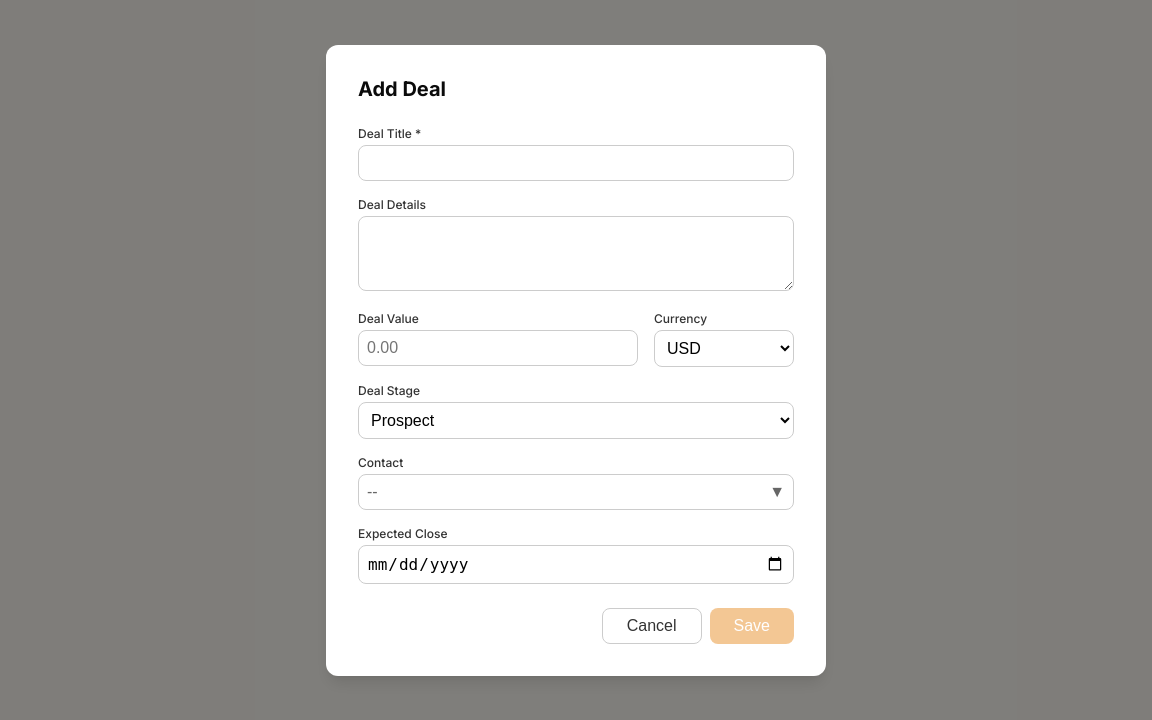
it: DealFormModal contact typeahead › filters contacts and selects a matching contact
Click the button named "Contact" at (372, 491), box [358,474,794,510]
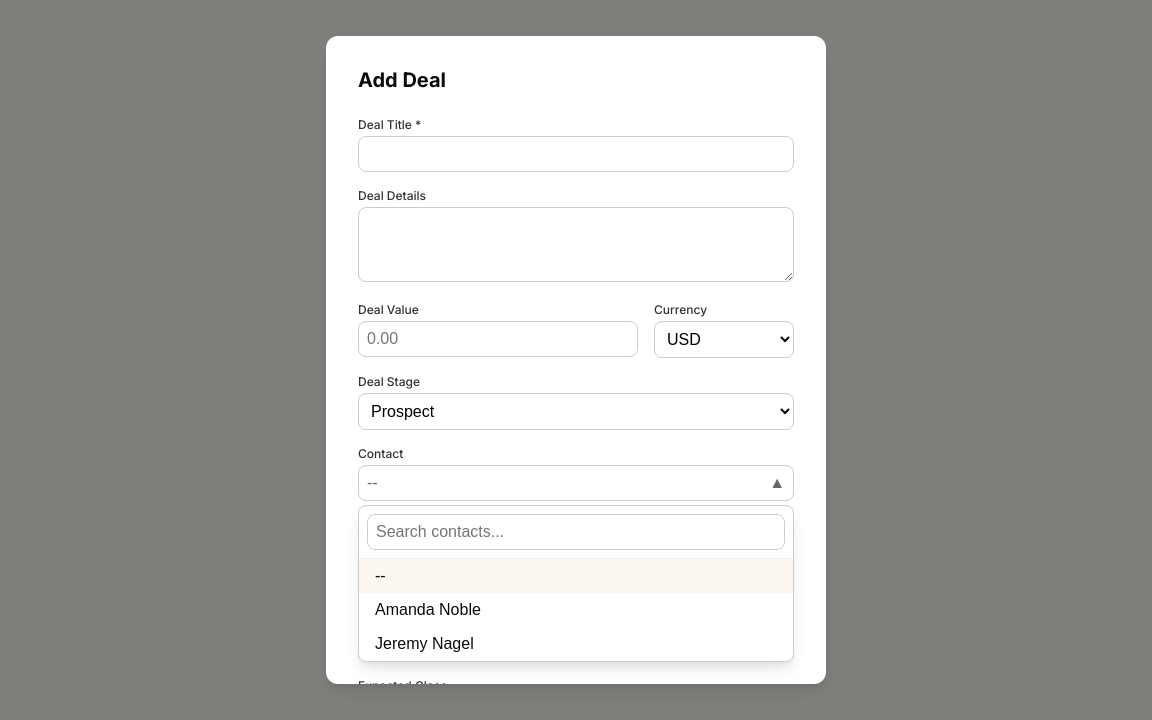
Type "amanda" into the field with placeholder "Search contacts..." at (576, 532), box [367,514,785,550]
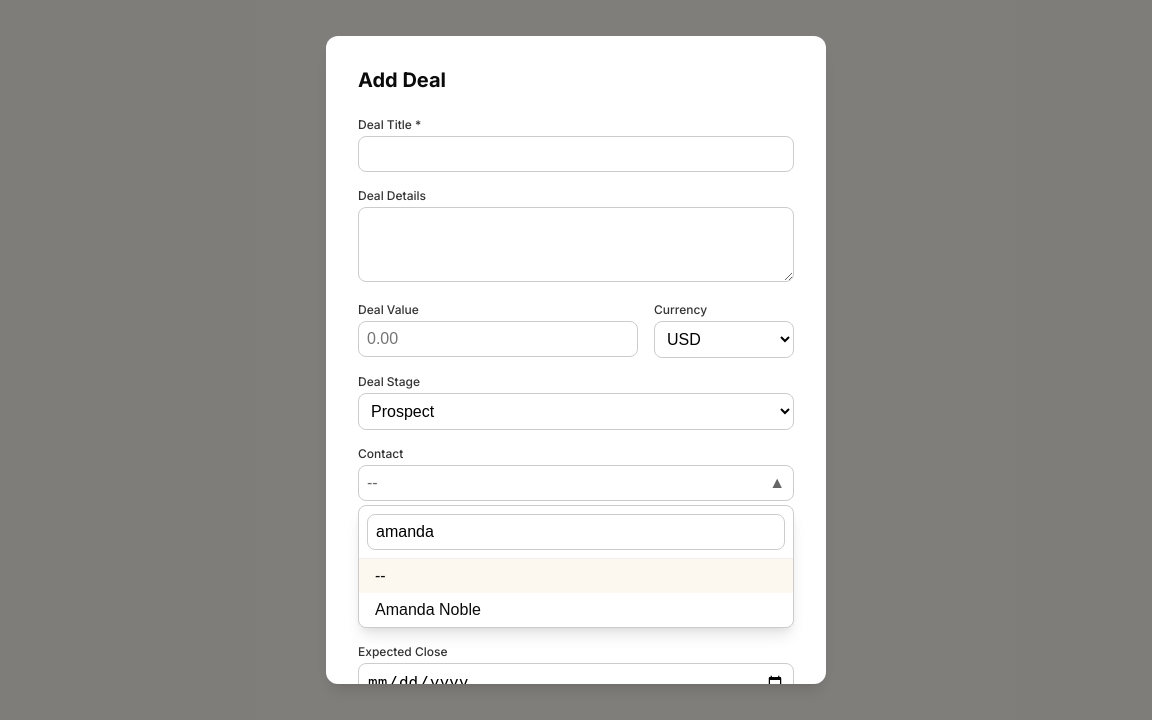
Expected: the option "Amanda Noble" is shown
Expected: the option "Jeremy Nagel" is gone
Click the option "Amanda Noble" at (428, 610), box [359,593,793,627]
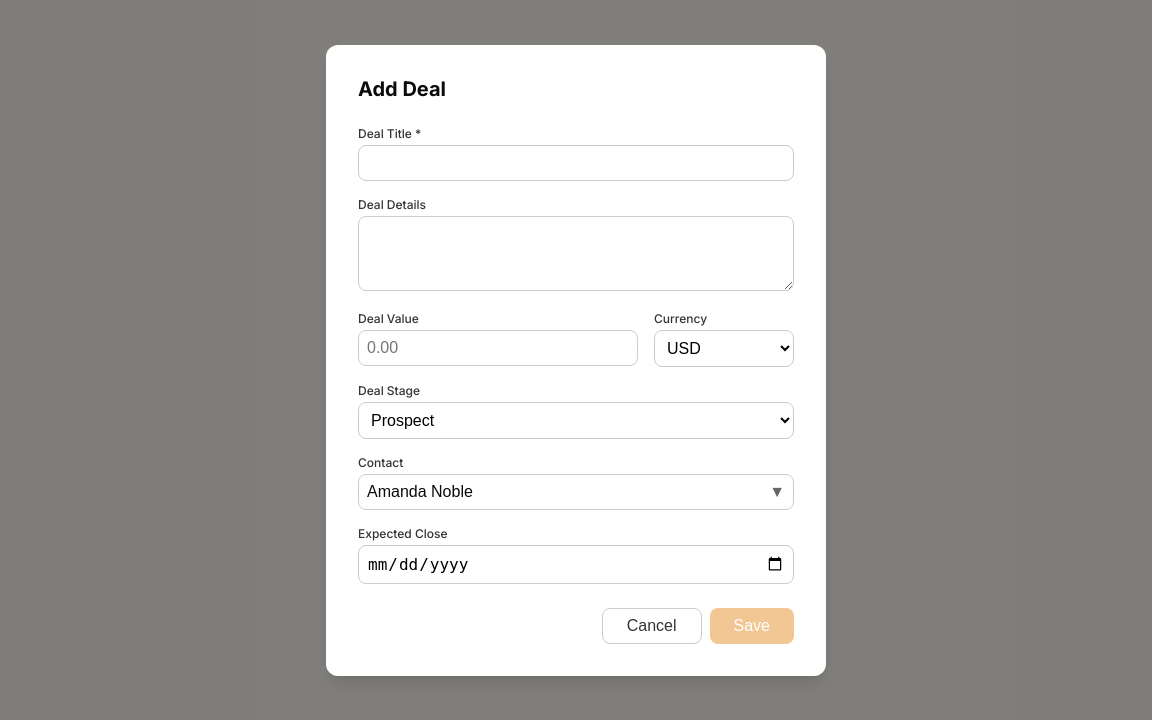
Expected: the button with aria-label "Contact" shows "Amanda Noble", [358,474,794,510]
